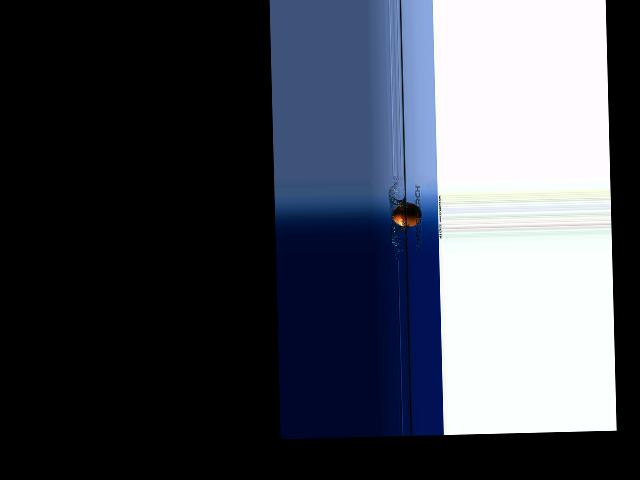egg: (392, 202, 421, 227)
